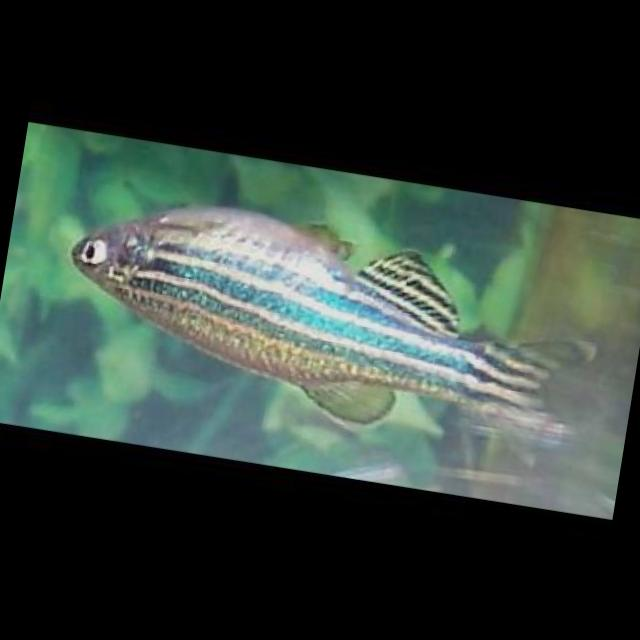ZebraFish: (46, 184, 614, 468)
